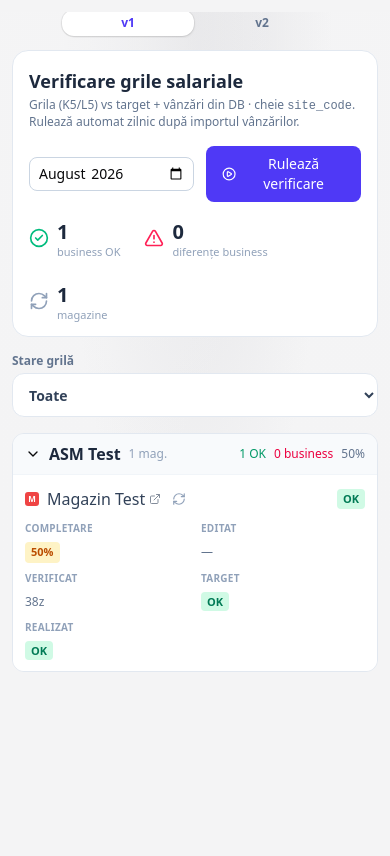
Test: Grile run authority › shows the explicit unknown-state warning instead of claiming refresh failure or success
Click the button named "Reîmprospătează grila Magazin Test" at (179,499), box [165,485,193,513]
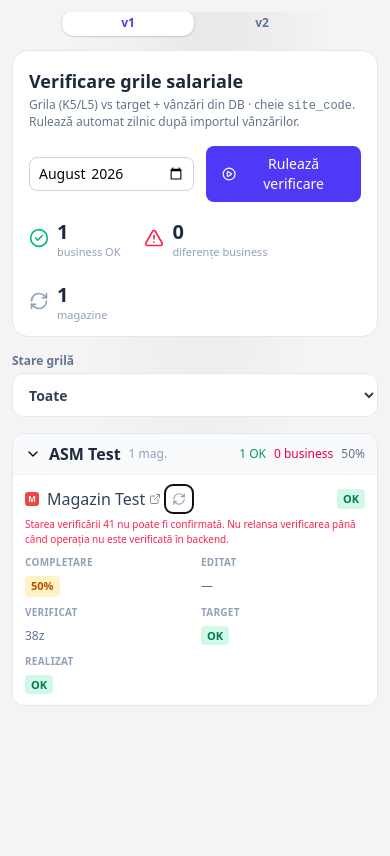
Now the message shows "Nu relansa verificarea", box [25,517,356,546]
